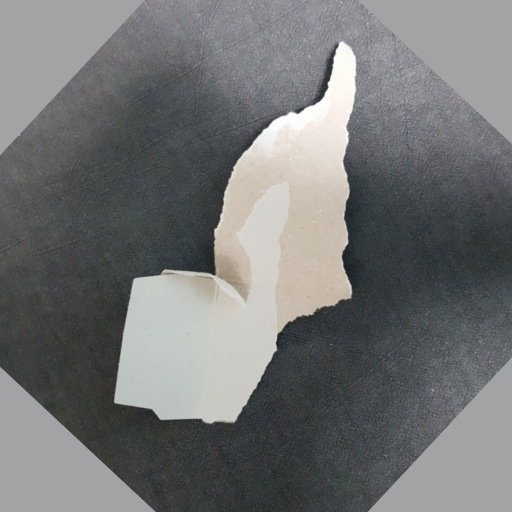Paper_3: (110, 43, 369, 455)
